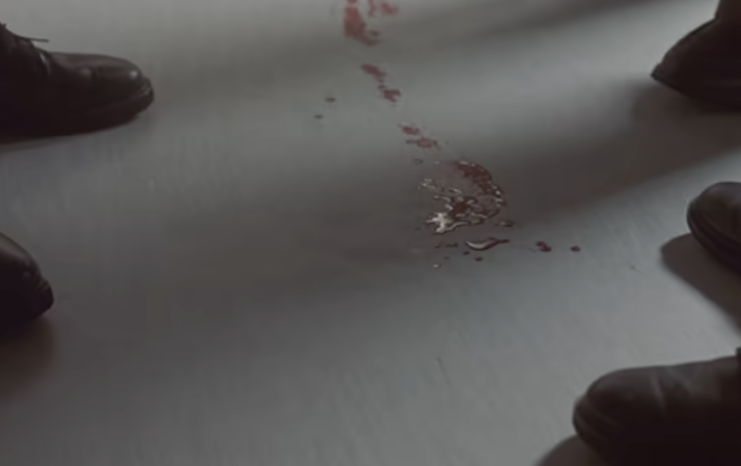blood_46.png: (294, 4, 597, 288)
